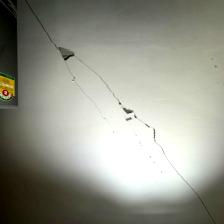Medium: (34, 11, 210, 215)
